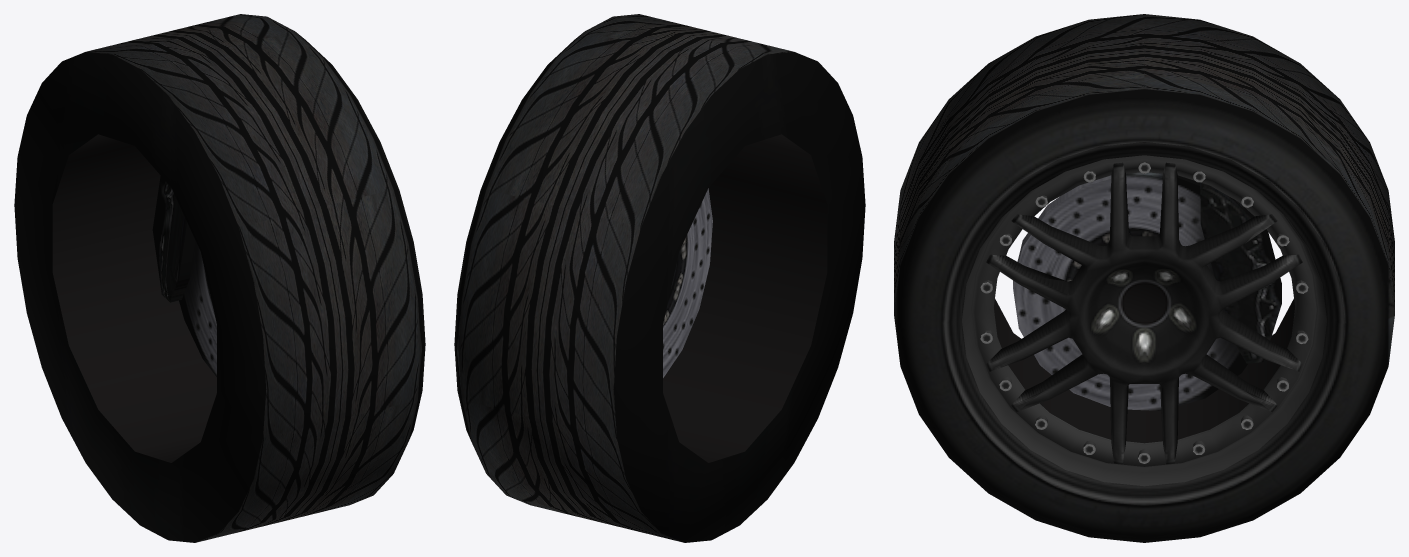
The model's file is WP24_wheelpack.glb.
The picture shows the model from 3 angles, left to right: view 1: azimuth 30°, elevation 25°; view 2: azimuth 150°, elevation 25°; view 3: azimuth 270°, elevation 25°; orthographic projection.
Parts seen in each view (by area): view 1: MOD_ND_WP24_tyre, MOD_ND_WP24_rim, MOD_ND_WP24_brakes; view 2: MOD_ND_WP24_tyre, MOD_ND_WP24_rim, MOD_ND_WP24_brakes; view 3: MOD_ND_WP24_tyre, MOD_ND_WP24_rim, MOD_ND_WP24_brakes.
Part boxes in pixels (x1,y1,x2,y2): MOD_ND_WP24_tyre: (14,14,425,542); MOD_ND_WP24_rim: (52,134,216,462); MOD_ND_WP24_brakes: (152,176,216,376); MOD_ND_WP24_tyre: (454,14,865,542); MOD_ND_WP24_rim: (663,134,827,462); MOD_ND_WP24_brakes: (663,188,712,377); MOD_ND_WP24_tyre: (894,14,1394,542); MOD_ND_WP24_rim: (943,142,1345,505); MOD_ND_WP24_brakes: (1013,172,1281,410).
Size of the model in its own units: 0.2597 by 0.6414 by 0.6414.
Materials: 2 (2 with a texture image).
